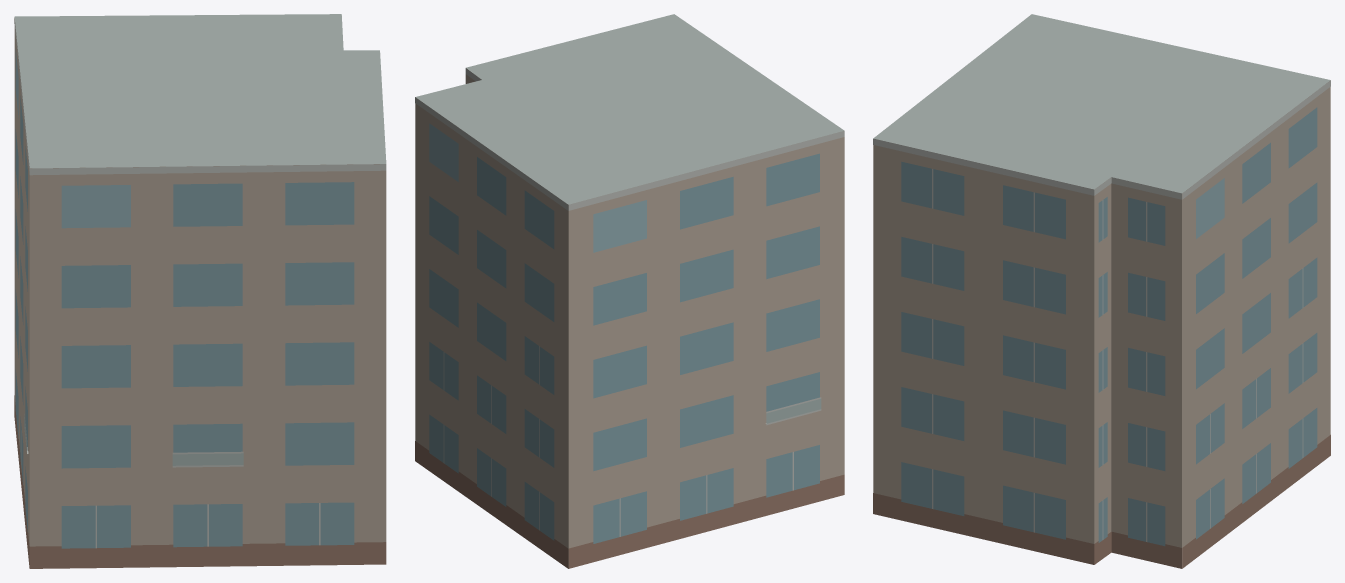
File: survey-upis-32885988.glb
The picture shows the model from 3 angles, left to right: view 1: azimuth 30°, elevation 25°; view 2: azimuth 150°, elevation 25°; view 3: azimuth 270°, elevation 25°; orthographic projection. The views are drawn at different scales.
Parts seen in each view (by area): view 1: survey-upis-32885988.tmp; view 2: survey-upis-32885988.tmp; view 3: survey-upis-32885988.tmp.
Part boxes in pixels (x1,y1,x2,y2): survey-upis-32885988.tmp: (14,14,386,568); survey-upis-32885988.tmp: (415,14,844,568); survey-upis-32885988.tmp: (873,14,1330,568).
Size of the model in its own units: 14.77 by 14.4 by 15.92.
